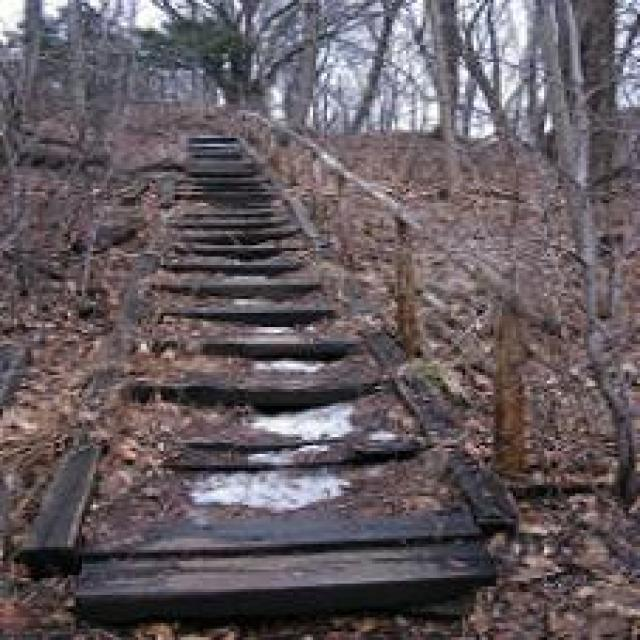stair: (57, 318, 494, 595)
